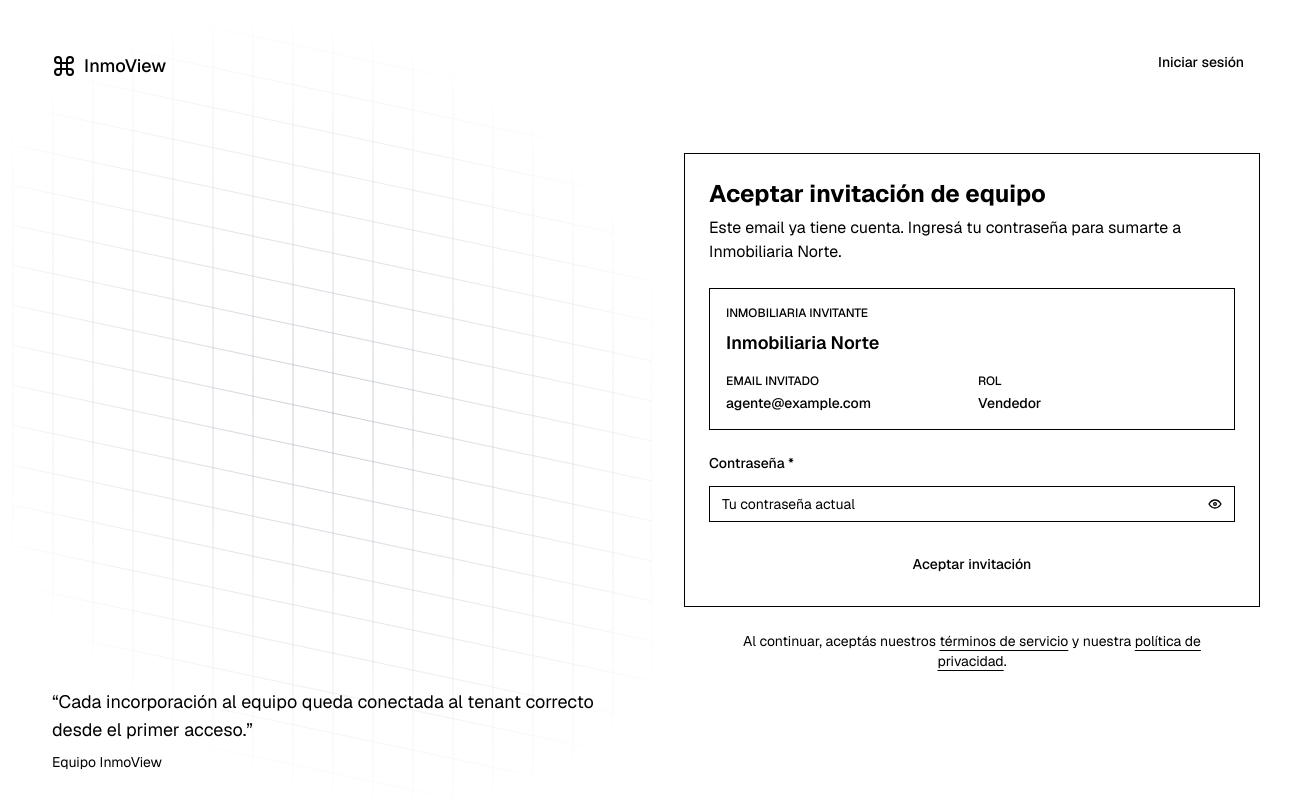
Scenario: TeamInvitationAcceptanceView › shows wrong-account copy for backend 403 responses
The image size is (1292, 812).
Type "test-credential-123" into the password field labelled "Contraseña *".
click(972, 504); type("test-credential-123")  # box [709,486,1235,522]
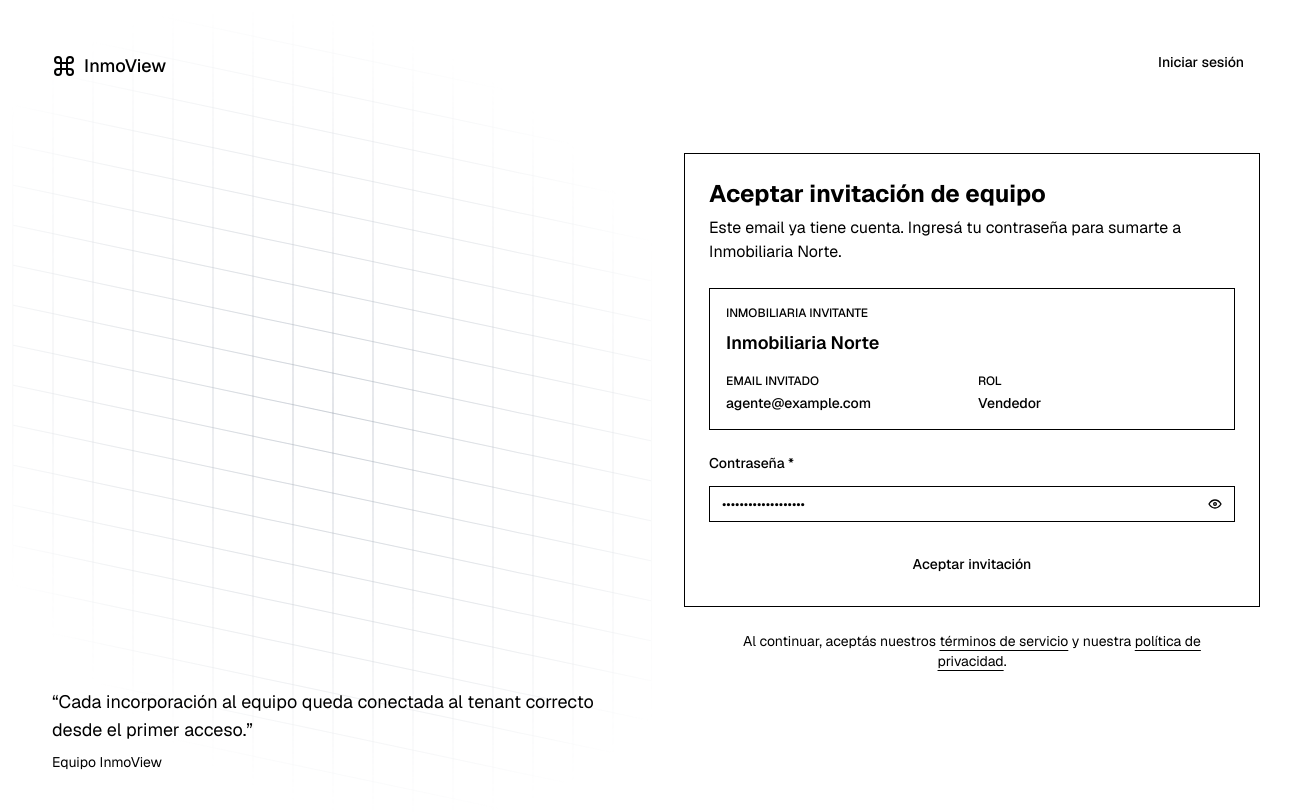
Click the button "Aceptar invitación".
click(972, 564)  # box [709,546,1235,582]
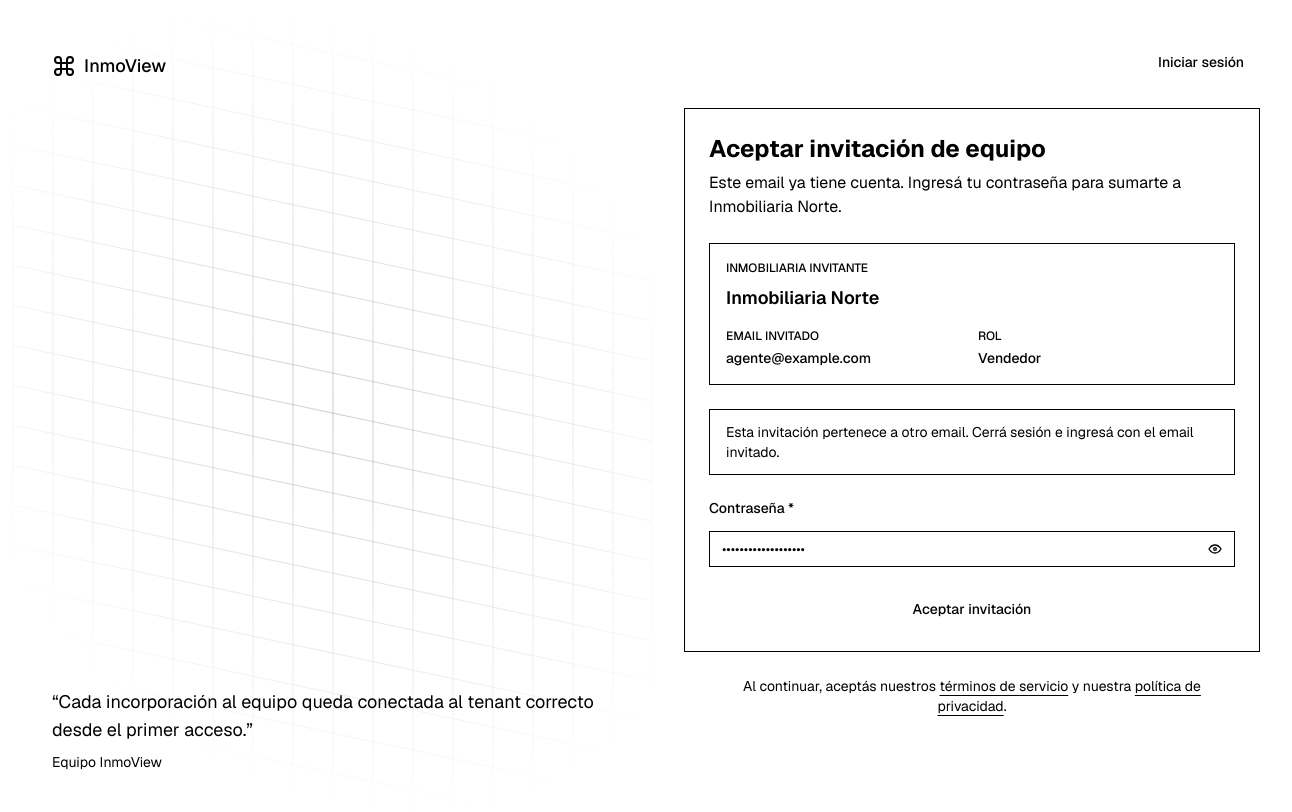
Expected: the text "Esta invitación pertenece a otro email" is shown, [726,423,1194,461]
